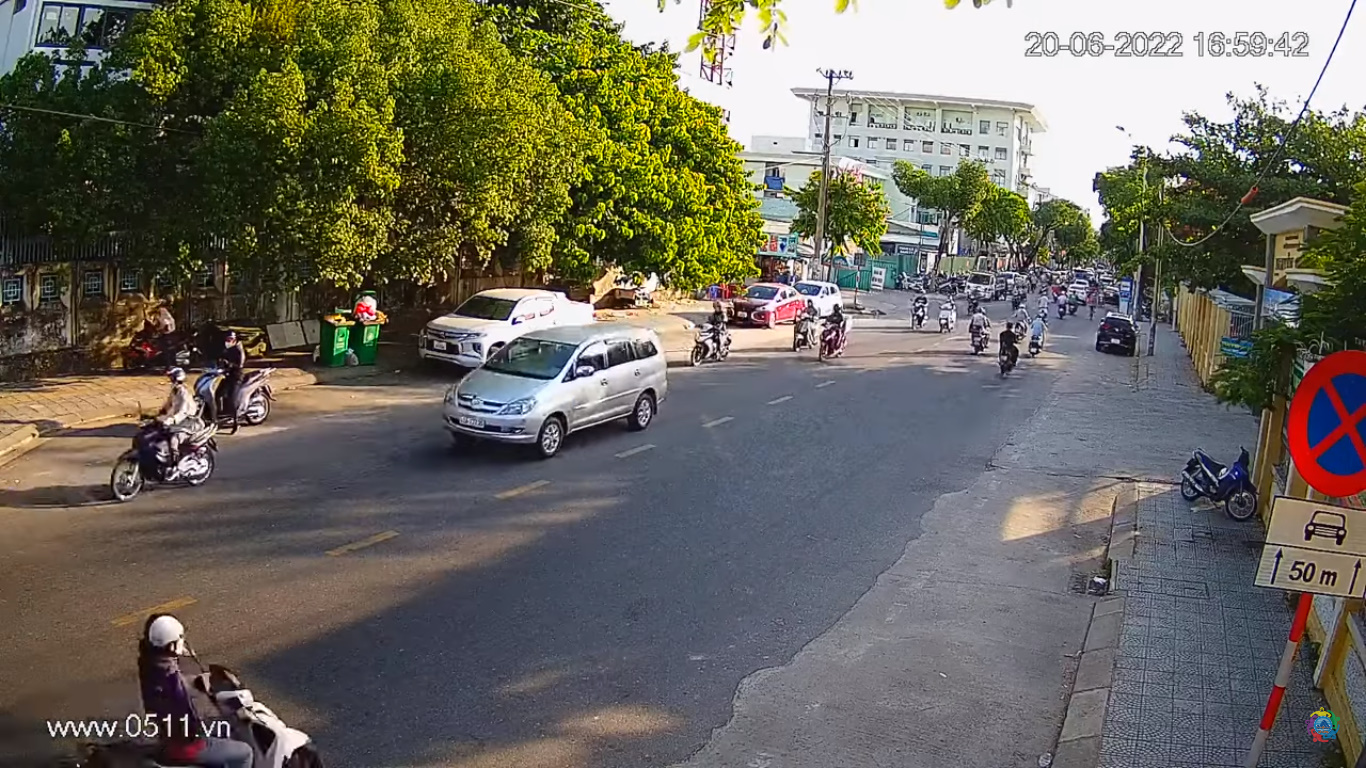car: (442, 329, 672, 464)
